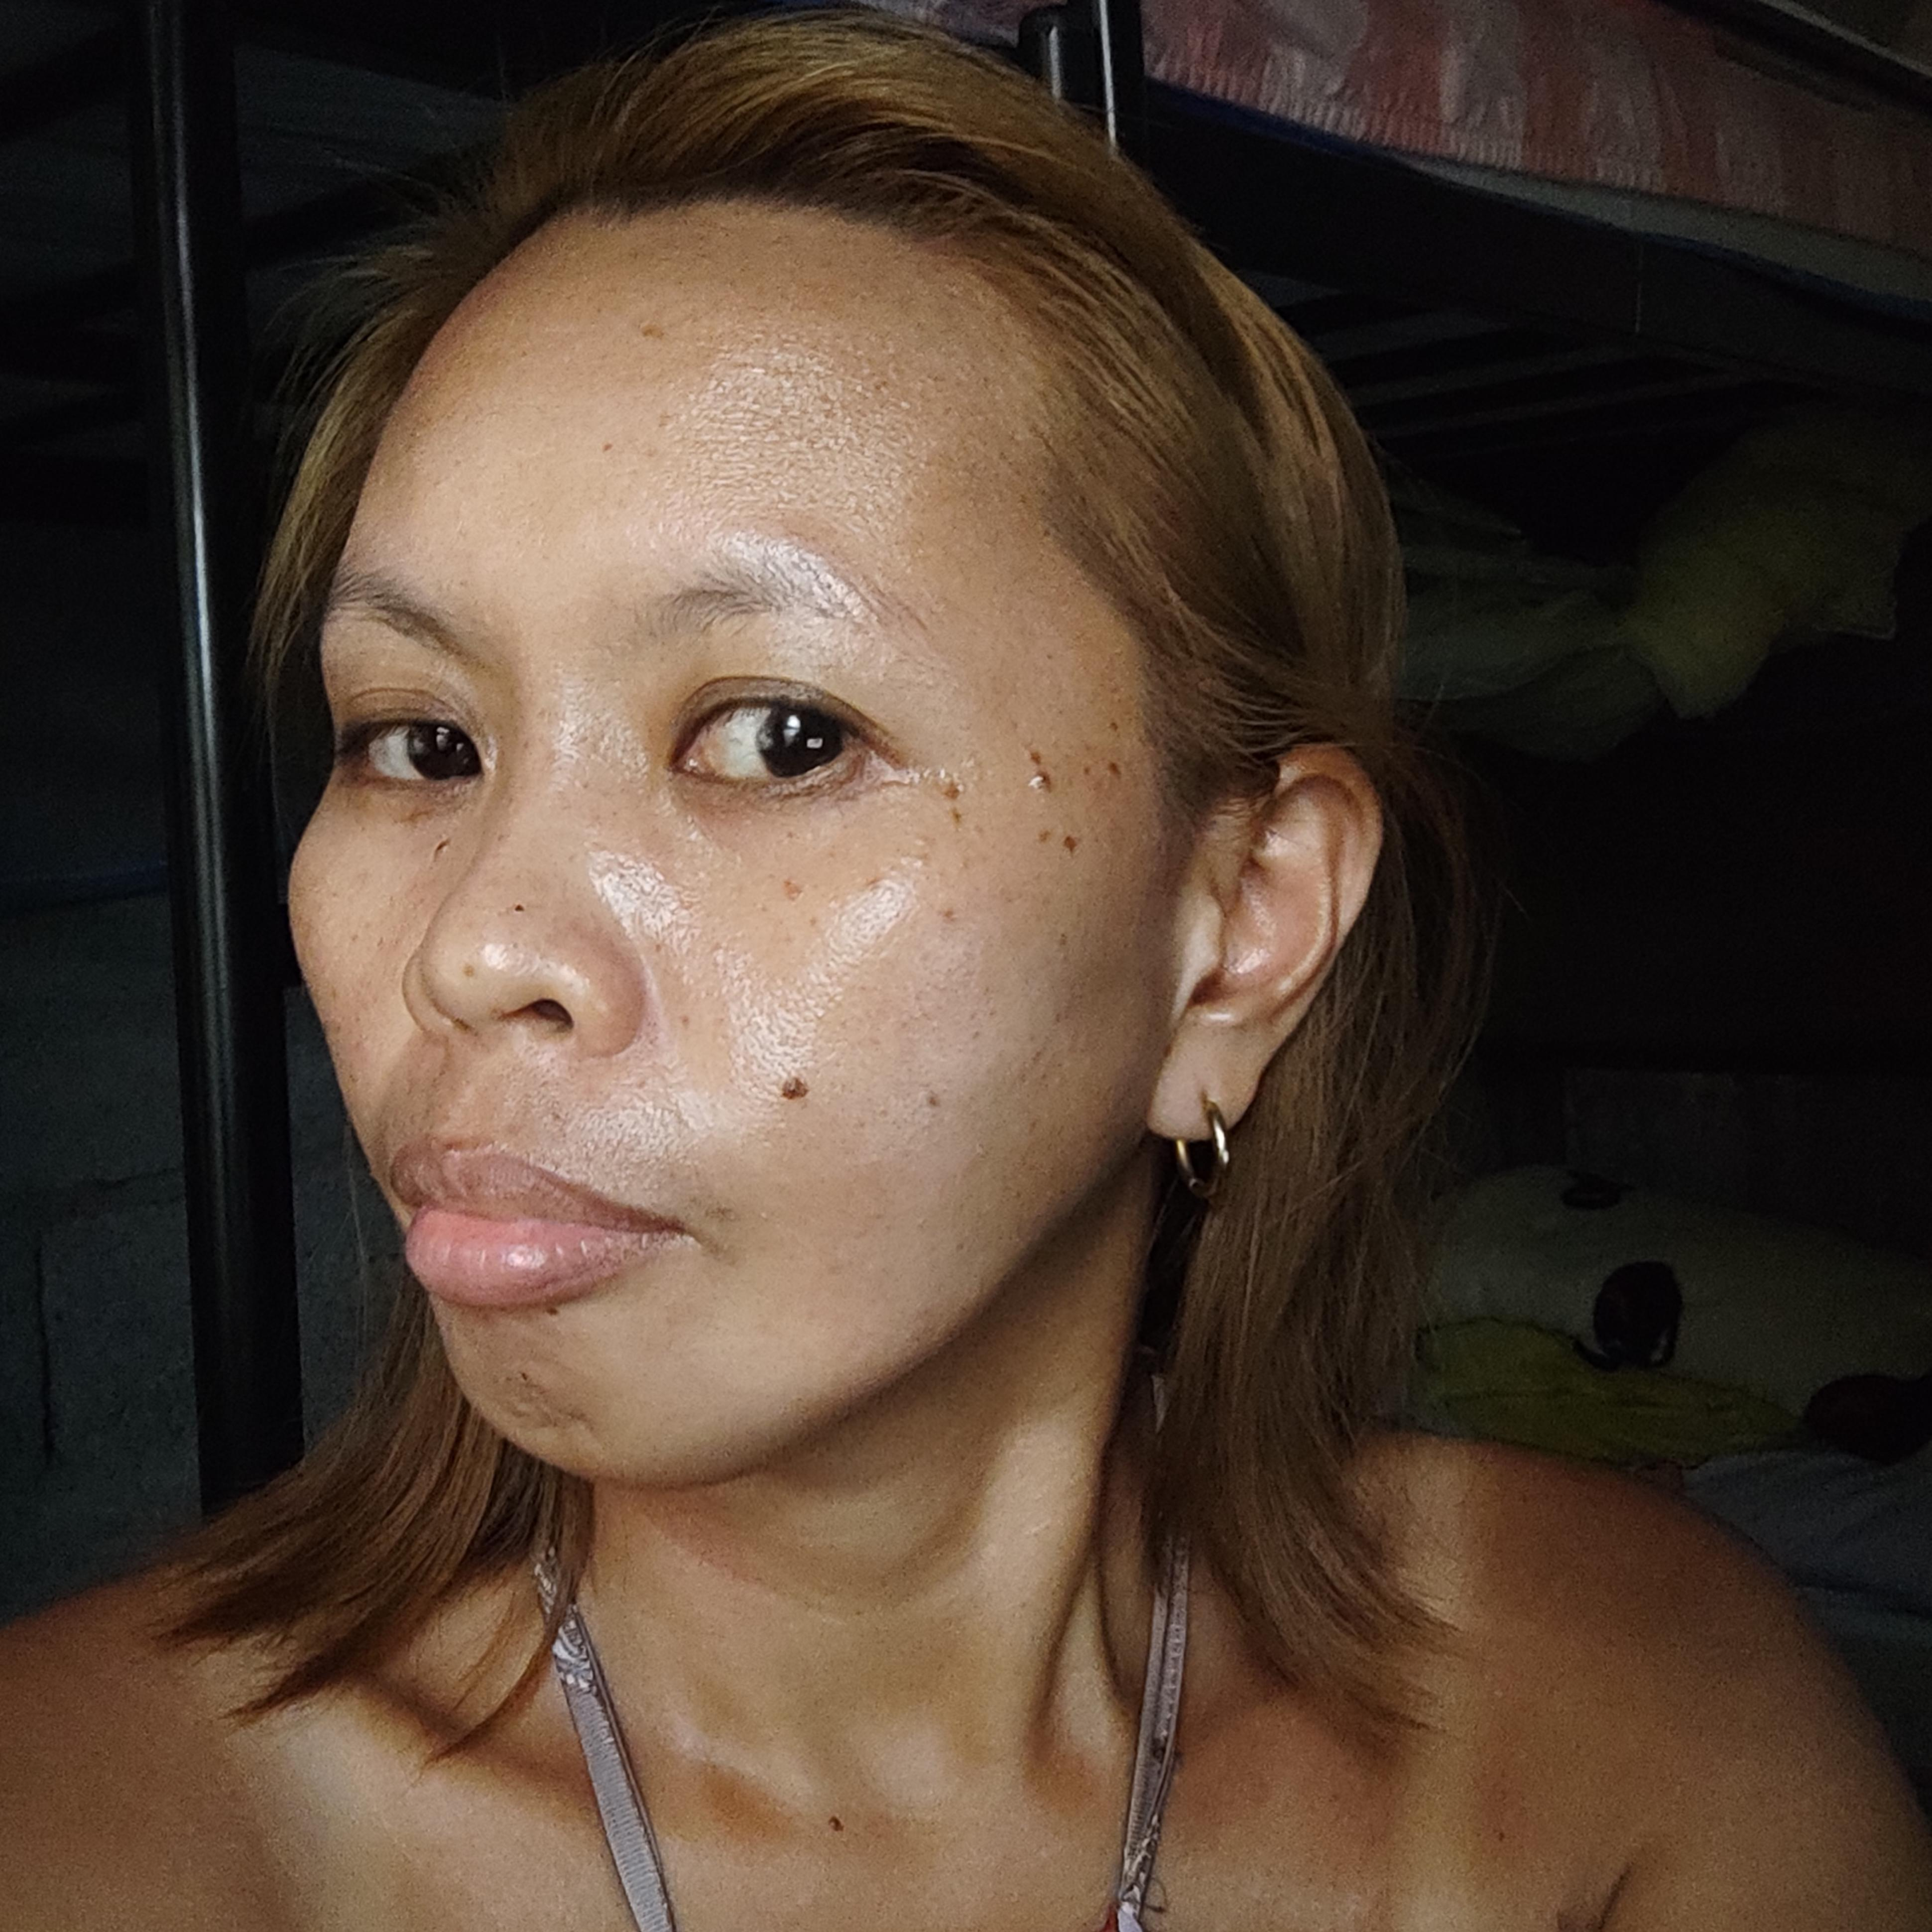Englarged-Pores: (708, 929, 885, 1049), (605, 833, 701, 943)
